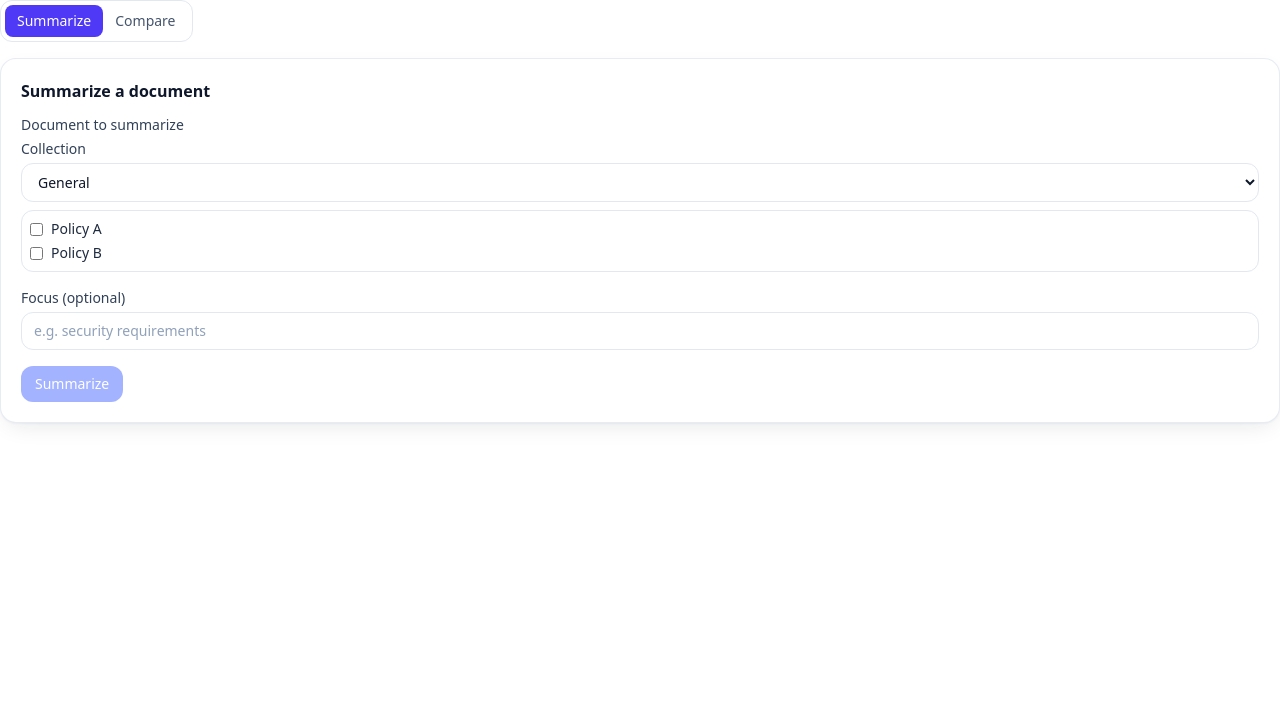
it: AgentLauncher › shows a refusal returned by the server
The image size is (1280, 720).
Step 1. Click the checkbox labelled "Policy A" → point(36, 229), box x1=30 y1=222 x2=43 y2=236
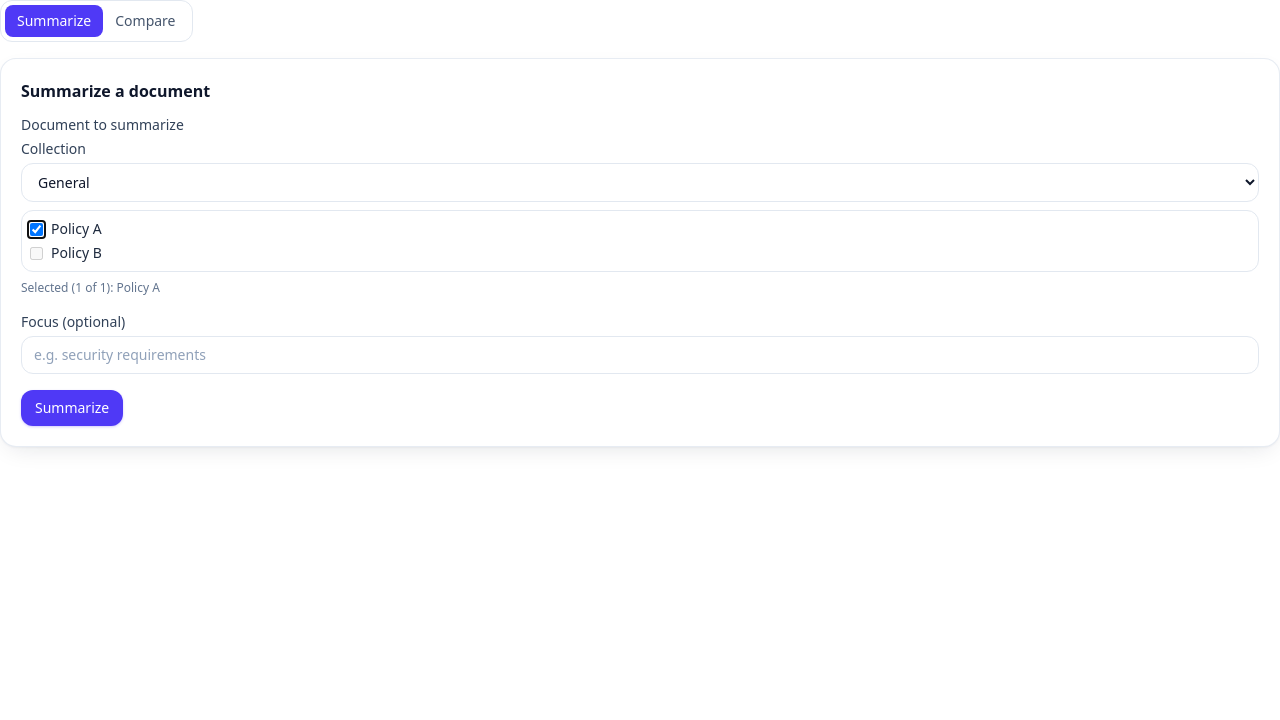
Step 2. Click the button "Summarize" → point(72, 408), box x1=21 y1=390 x2=123 y2=426
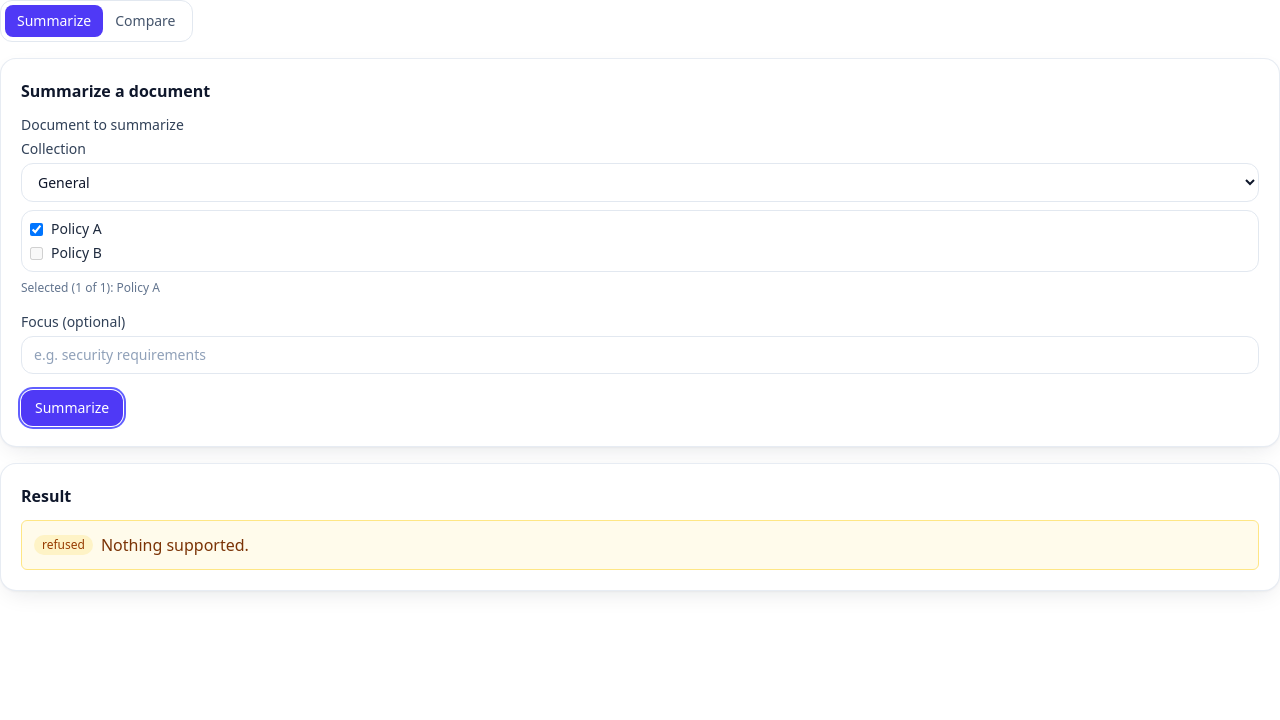
Check: the element with test id "refusal" shows "Nothing supported.", box x1=101 y1=534 x2=249 y2=556
